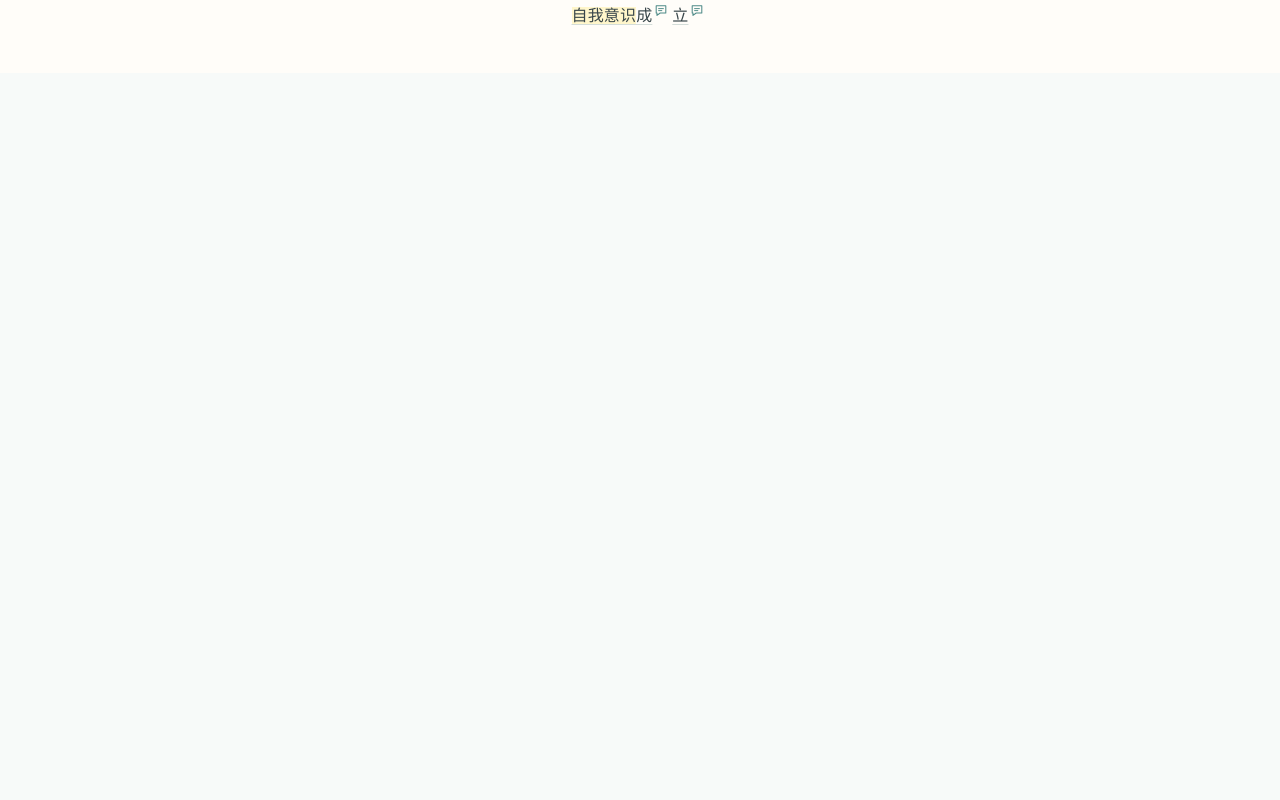
AnnotatedParagraph 实测组件交互 › 重叠范围保留不同结束点及其历史，不重复原文
The image size is (1280, 800).
Expected: the element showing "自我 意识 成立" is shown, [572,0,708,32]
Click the 1st button with class "judu-history-marker" at (661, 11), box [652,2,670,20]
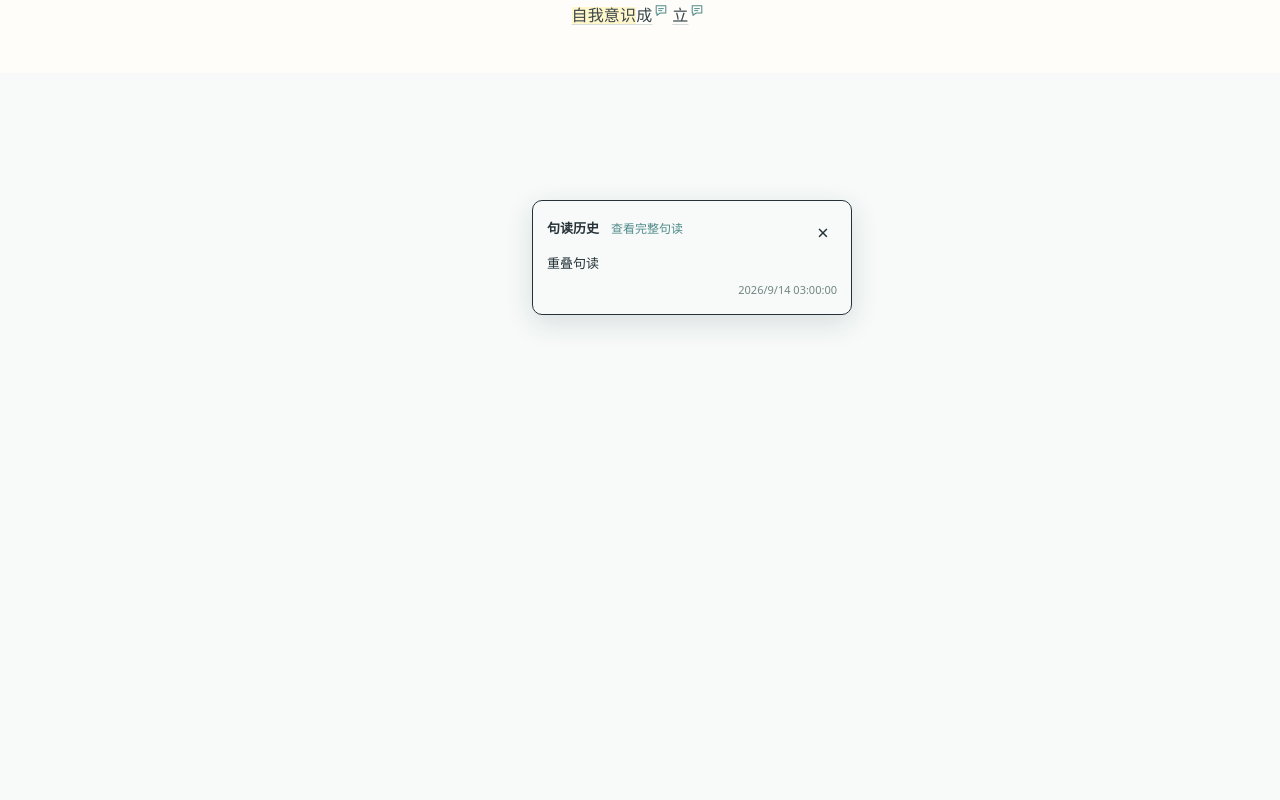
Expected: the dialog shows "重叠句读", [547,254,599,272]
